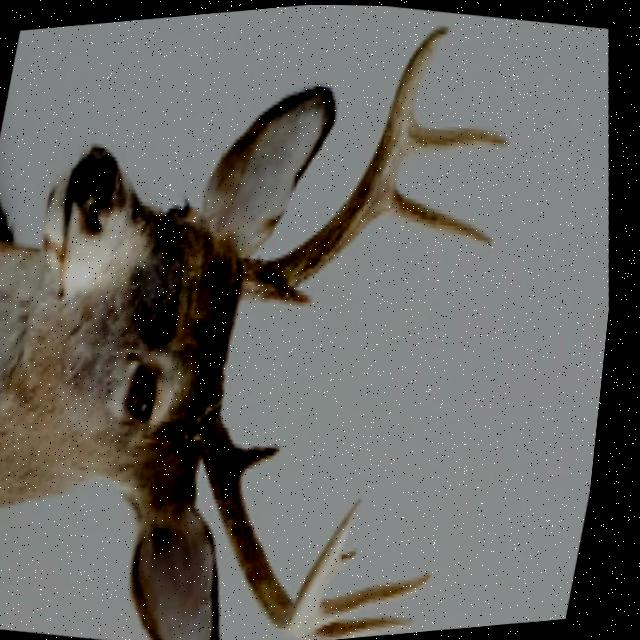L-F: (242, 22, 451, 299)
L-G1: (274, 281, 317, 306)
L-G2: (385, 180, 497, 244)
L-G3: (409, 117, 510, 151)
R-F: (192, 397, 373, 636)
R-G1: (241, 442, 289, 473)
